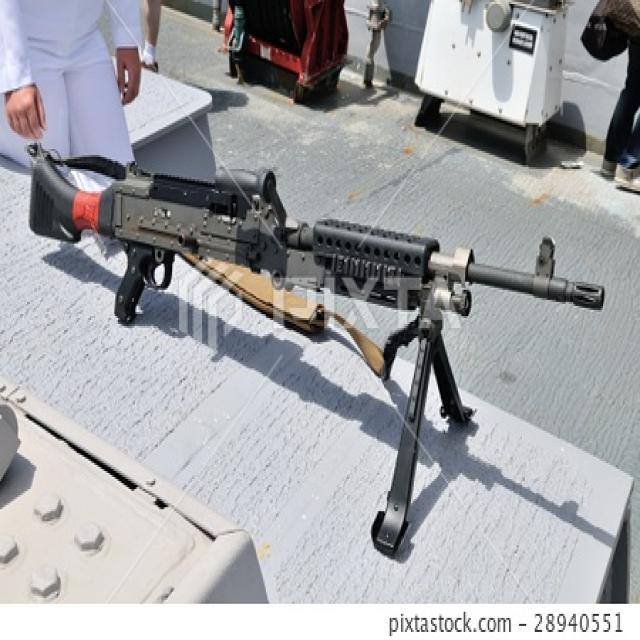Gun: (23, 118, 619, 572)
